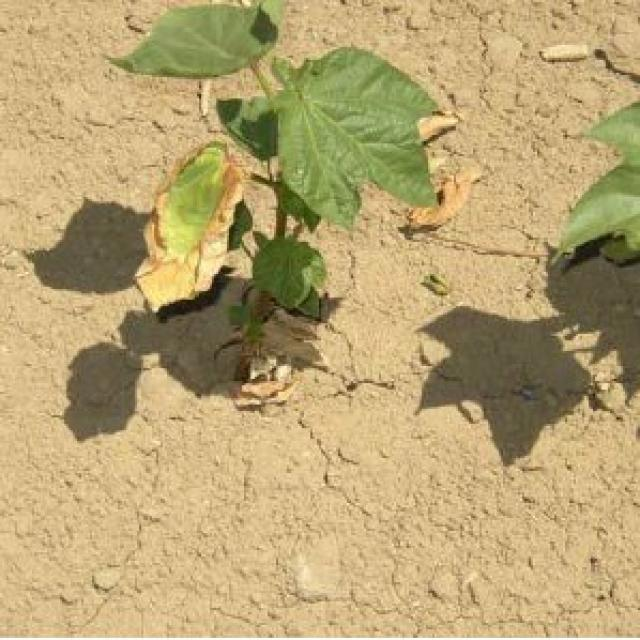Fusarium Wilt: (113, 1, 452, 387)
